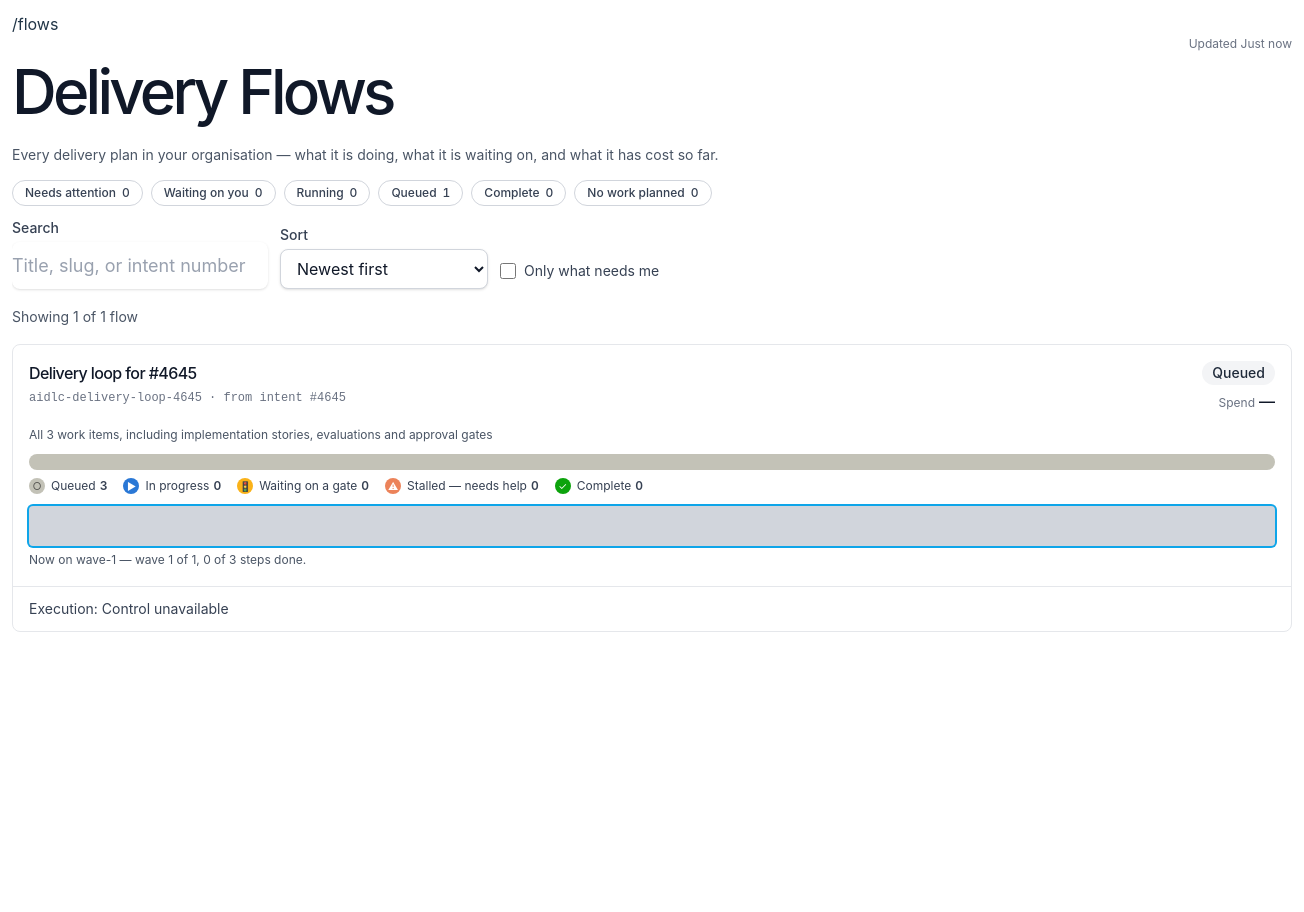
Scenario: filters live in the query string › writes the needs-me filter into the URL and sends it to the API
This screenshot has width=1304, height=912.
Click the checkbox with test id "needs-me-filter" at (508, 270), box [500,262,516,278]
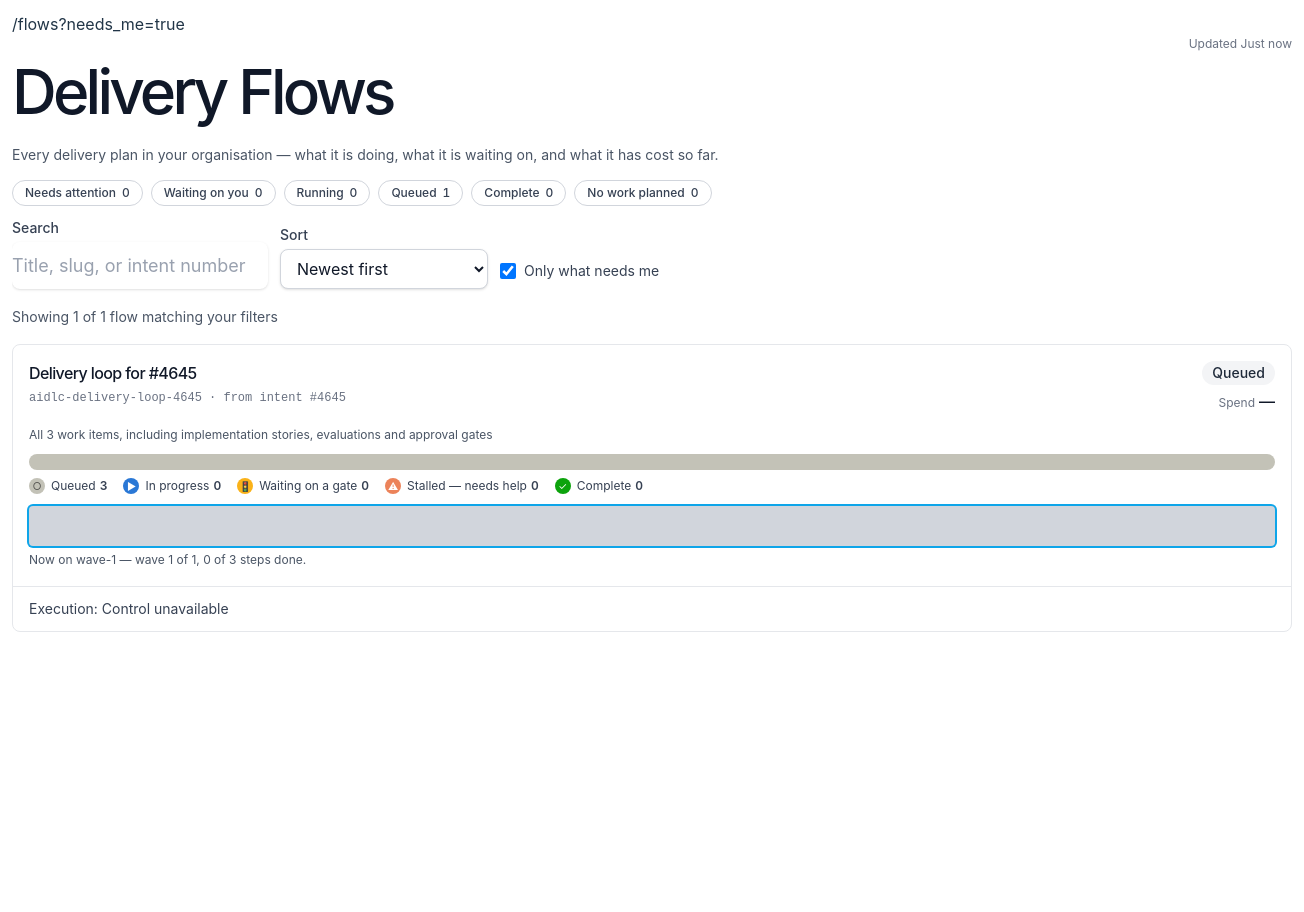
Check: the text with test id "location" shows "needs_me=true", box [12,14,185,34]
